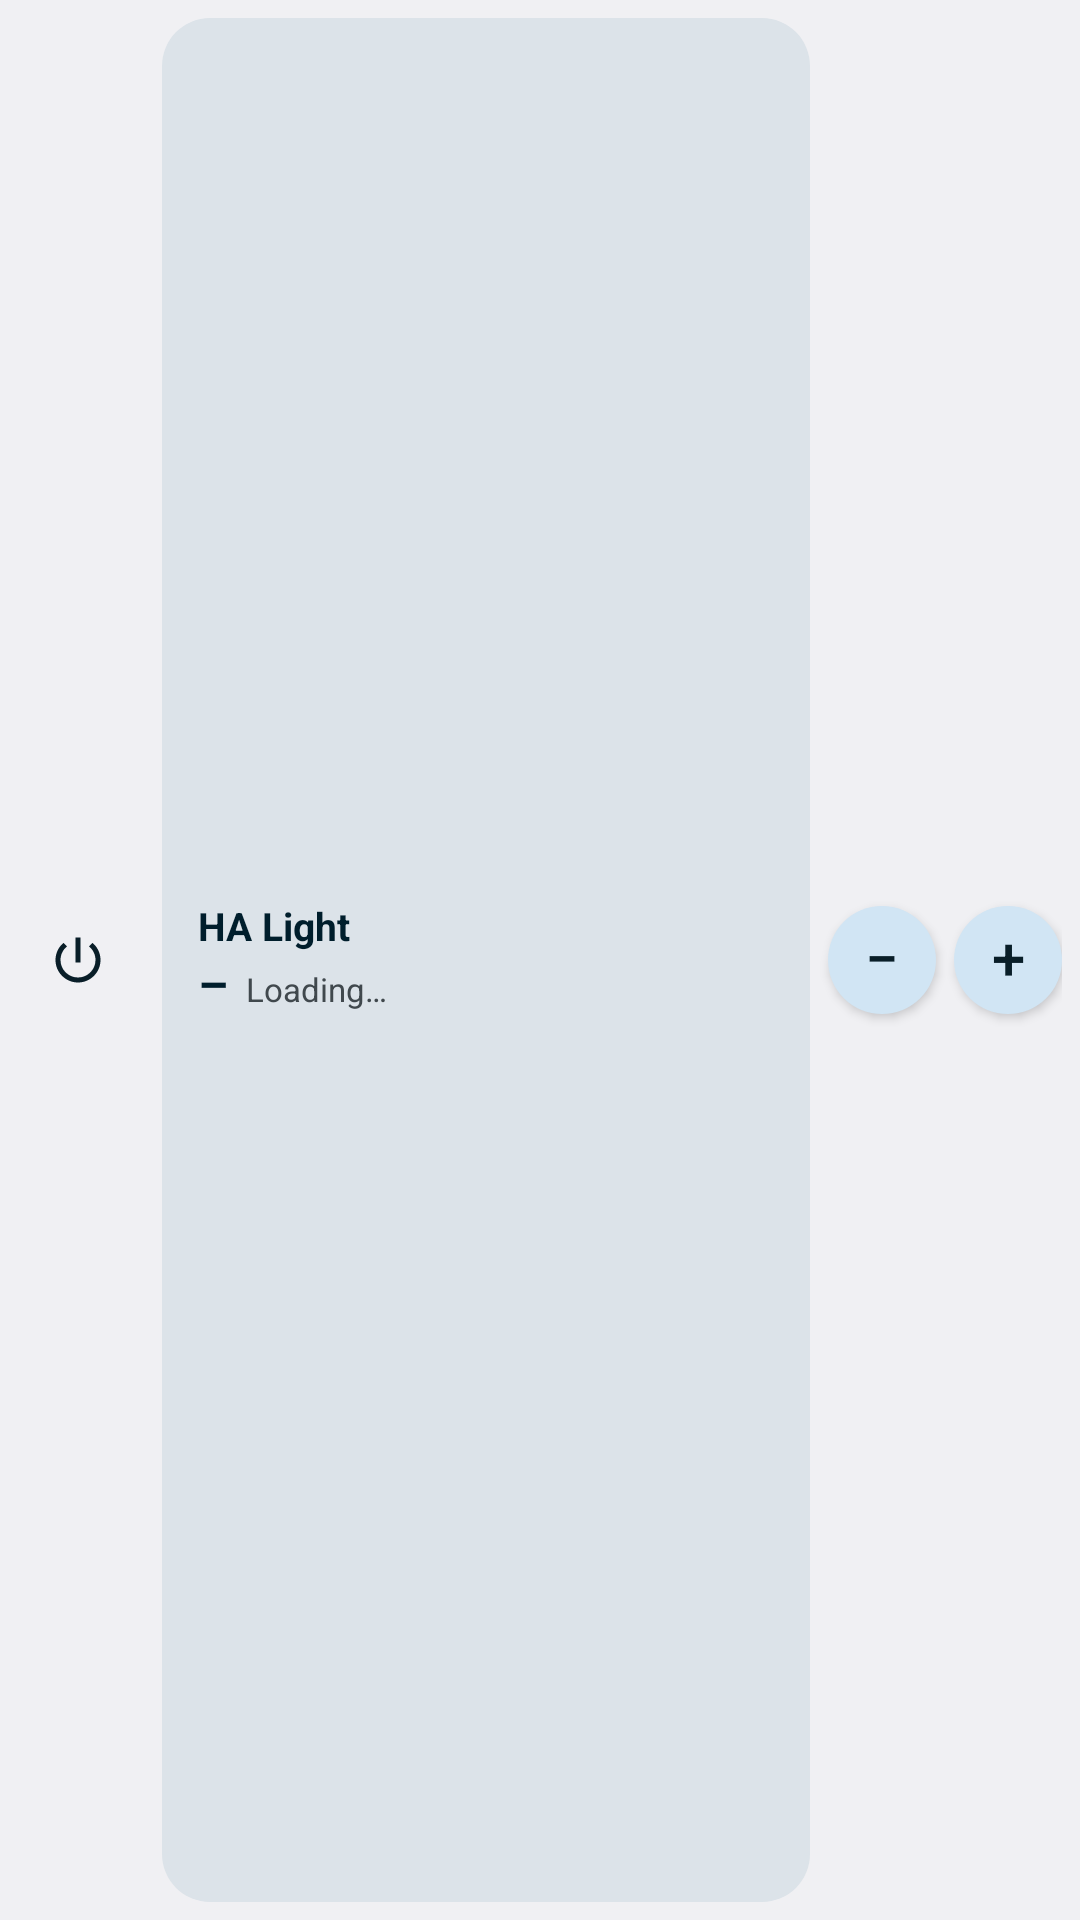

Icon bounding boxes for this 1080×1920 phone screenshot, format (x1, y1, x2, y2):
Turn light on: (55, 937, 101, 983)
